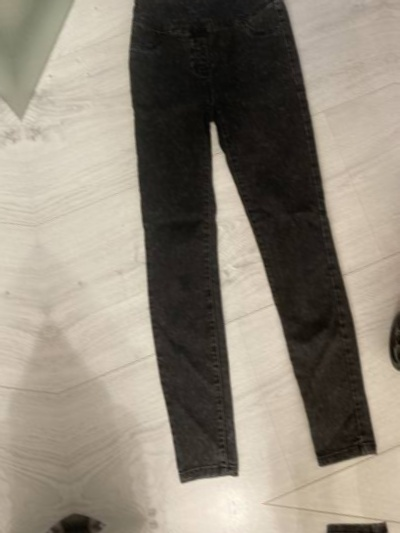Pants: (84, 0, 380, 491), (160, 516, 400, 533)
